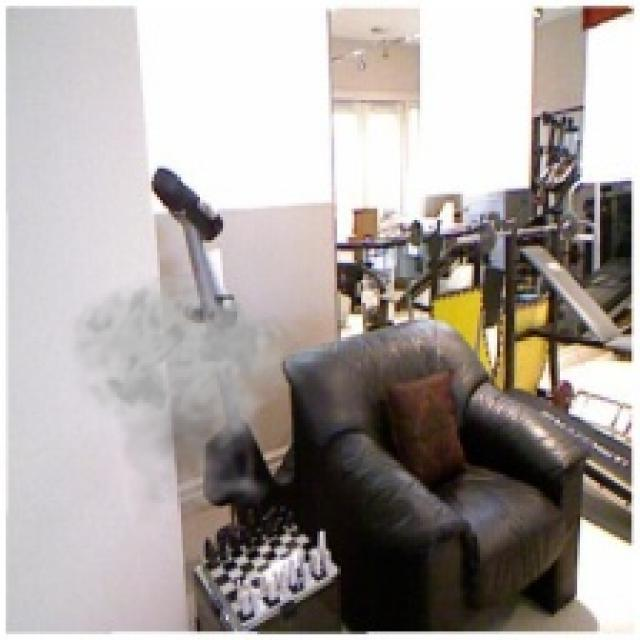Smoke: (60, 268, 312, 526)
